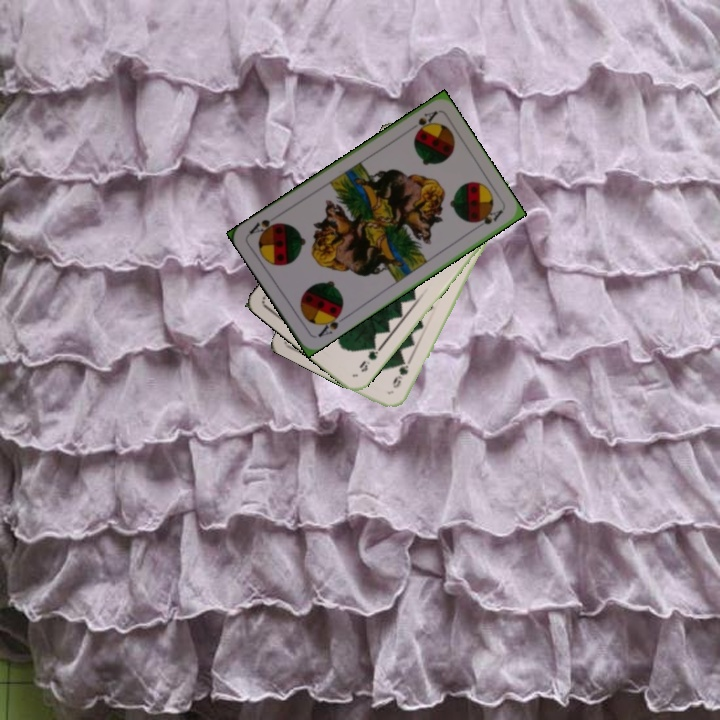G9: (355, 340, 384, 375), (388, 356, 413, 391)
SA: (313, 307, 348, 340), (403, 107, 440, 136)
